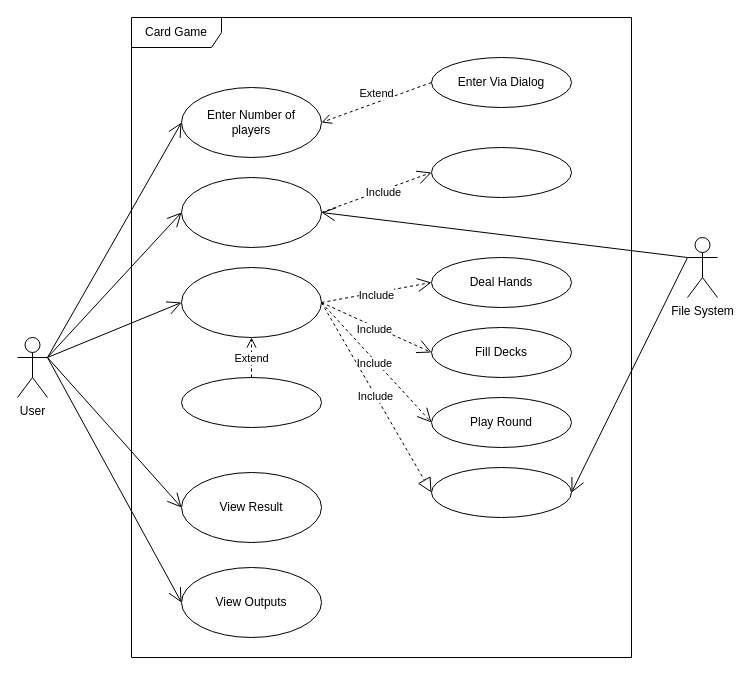
This 751x675 diagram has some shape labels left out. Each missing label, with the centre of its shape:
Detect Immediate Win: (251,402)
Load Pack FIle: (251,212)
Run Game: (251,302)
Validate Inputs: (501,172)
Write Output Files: (501,492)
